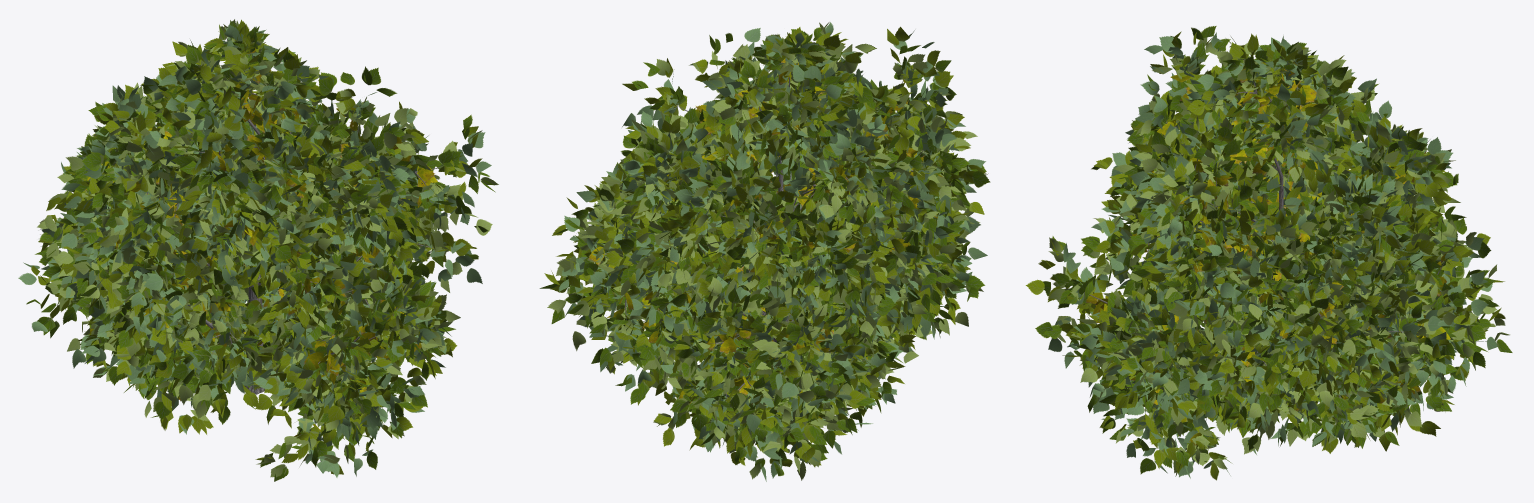
The picture shows the model from 3 angles, left to right: view 1: azimuth 30°, elevation 25°; view 2: azimuth 150°, elevation 25°; view 3: azimuth 270°, elevation 25°; orthographic projection.
Parts seen in each view (by area): view 1: Bush 3 (smaller)_Leaf_v2_Mat_0, Bush 3 (smaller)_Leaf_v4_Mat_0, Bush 3 (smaller)_Leaf_Mat_0, Bush 3 (smaller)_Leaf_v3_Mat_0, Bush 3 (smaller)_Leaf2_Mat_0, Bush 3 (smaller)_Bark_Mat_0; view 2: Bush 3 (smaller)_Leaf_v2_Mat_0, Bush 3 (smaller)_Leaf_Mat_0, Bush 3 (smaller)_Leaf_v3_Mat_0, Bush 3 (smaller)_Leaf_v4_Mat_0, Bush 3 (smaller)_Leaf2_Mat_0, Bush 3 (smaller)_Bark_Mat_0; view 3: Bush 3 (smaller)_Leaf_Mat_0, Bush 3 (smaller)_Leaf_v2_Mat_0, Bush 3 (smaller)_Leaf_v4_Mat_0, Bush 3 (smaller)_Leaf_v3_Mat_0, Bush 3 (smaller)_Leaf2_Mat_0, Bush 3 (smaller)_Bark_Mat_0.
Part boxes in pixels (x1,y1,x2,y2): Bush 3 (smaller)_Leaf_v2_Mat_0: (31, 19, 482, 474); Bush 3 (smaller)_Leaf_v4_Mat_0: (18, 22, 491, 477); Bush 3 (smaller)_Leaf_Mat_0: (26, 20, 498, 481); Bush 3 (smaller)_Leaf_v3_Mat_0: (37, 19, 497, 477); Bush 3 (smaller)_Leaf2_Mat_0: (72, 44, 437, 436); Bush 3 (smaller)_Bark_Mat_0: (114, 56, 443, 394); Bush 3 (smaller)_Leaf_v2_Mat_0: (544, 26, 986, 467); Bush 3 (smaller)_Leaf_Mat_0: (539, 27, 990, 476); Bush 3 (smaller)_Leaf_v3_Mat_0: (547, 22, 988, 480); Bush 3 (smaller)_Leaf_v4_Mat_0: (558, 22, 987, 481); Bush 3 (smaller)_Leaf2_Mat_0: (588, 58, 946, 441); Bush 3 (smaller)_Bark_Mat_0: (604, 76, 922, 398); Bush 3 (smaller)_Leaf_Mat_0: (1035, 26, 1512, 476); Bush 3 (smaller)_Leaf_v2_Mat_0: (1025, 31, 1505, 480); Bush 3 (smaller)_Leaf_v4_Mat_0: (1042, 31, 1497, 478); Bush 3 (smaller)_Leaf_v3_Mat_0: (1048, 37, 1509, 473); Bush 3 (smaller)_Leaf2_Mat_0: (1085, 62, 1455, 445); Bush 3 (smaller)_Bark_Mat_0: (1089, 80, 1445, 397).
Size of the model in its own units: 1.47 by 1.49 by 1.56.
6 materials, 6 textured.
